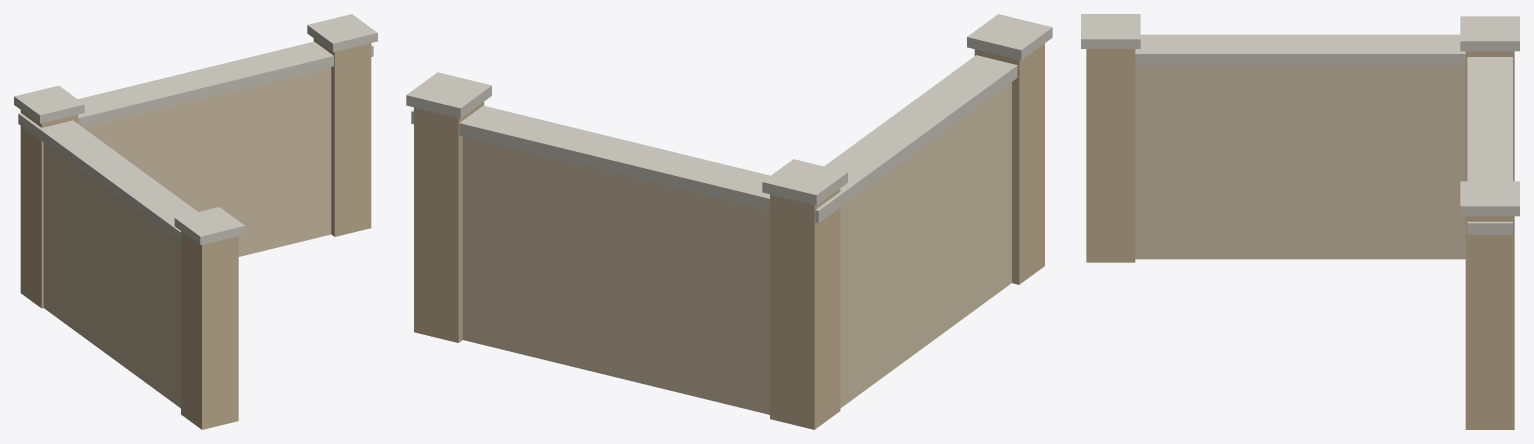
Rendered from wall_courtyard_b.glb.
3 views of the same model, side by side, from view 1: azimuth 30°, elevation 25°; view 2: azimuth 150°, elevation 25°; view 3: azimuth 270°, elevation 25° (orthographic). The views are drawn at different scales.
Visible parts, largest first — view 1: LOD0; view 2: LOD0; view 3: LOD0.
Boxes of the visible parts, <box> form: LOD0: <box>14,14,377,429</box>; LOD0: <box>406,14,1052,429</box>; LOD0: <box>1081,14,1519,429</box>.
Size of the model in its own units: 4.2 by 2.3 by 4.05.
